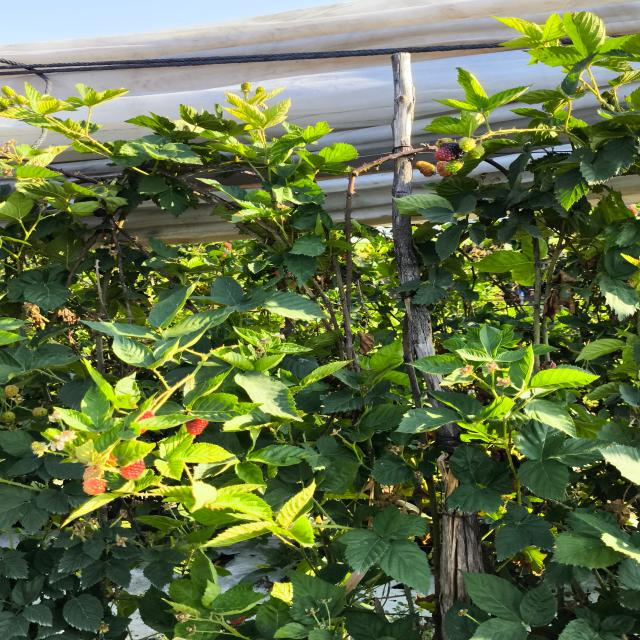marron: (434, 142, 463, 161)
naranja: (120, 459, 145, 480), (83, 478, 106, 495), (185, 419, 208, 435), (415, 161, 435, 177), (435, 161, 452, 177), (136, 411, 154, 422)
verde: (457, 137, 476, 152), (31, 441, 48, 457), (467, 144, 484, 159), (42, 428, 61, 441), (445, 160, 463, 173), (4, 385, 19, 397), (1, 411, 15, 423), (32, 407, 47, 417)
